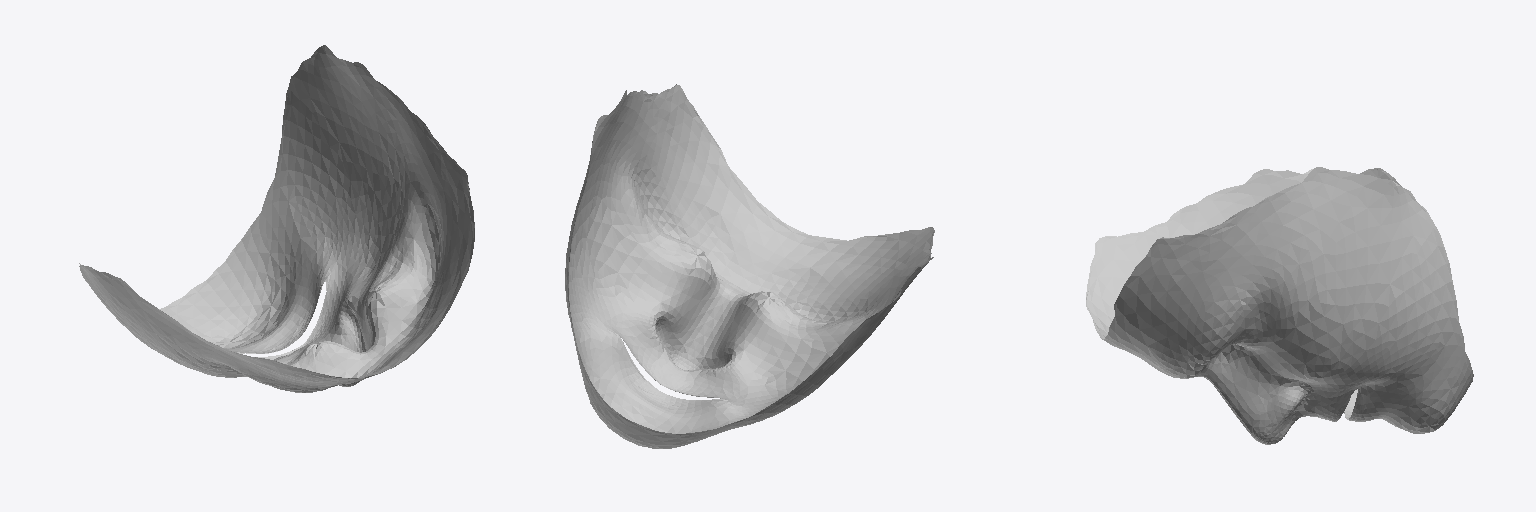
File: face_gab_sfm41.obj
3 renders of one model, left to right at view 1: azimuth 30°, elevation 25°; view 2: azimuth 150°, elevation 25°; view 3: azimuth 270°, elevation 25°, orthographic.
Bounding box in the file's own units: 164 × 153 × 180.